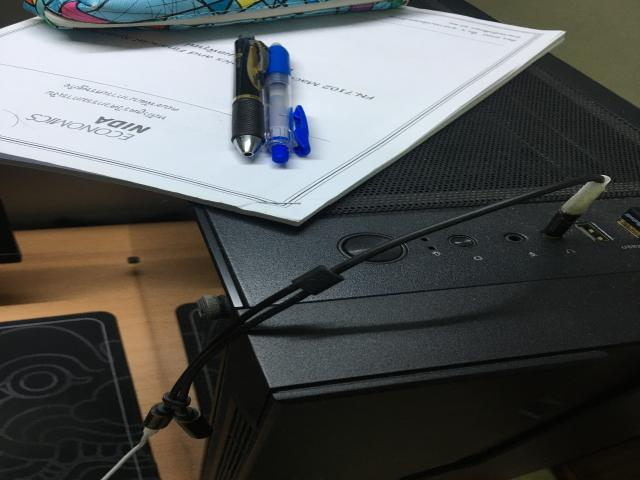Pen: (263, 43, 310, 163), (232, 35, 268, 157)
paper: (0, 7, 562, 225)
